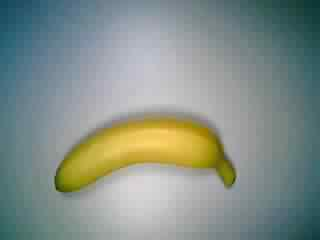banana: (47, 113, 244, 199)
